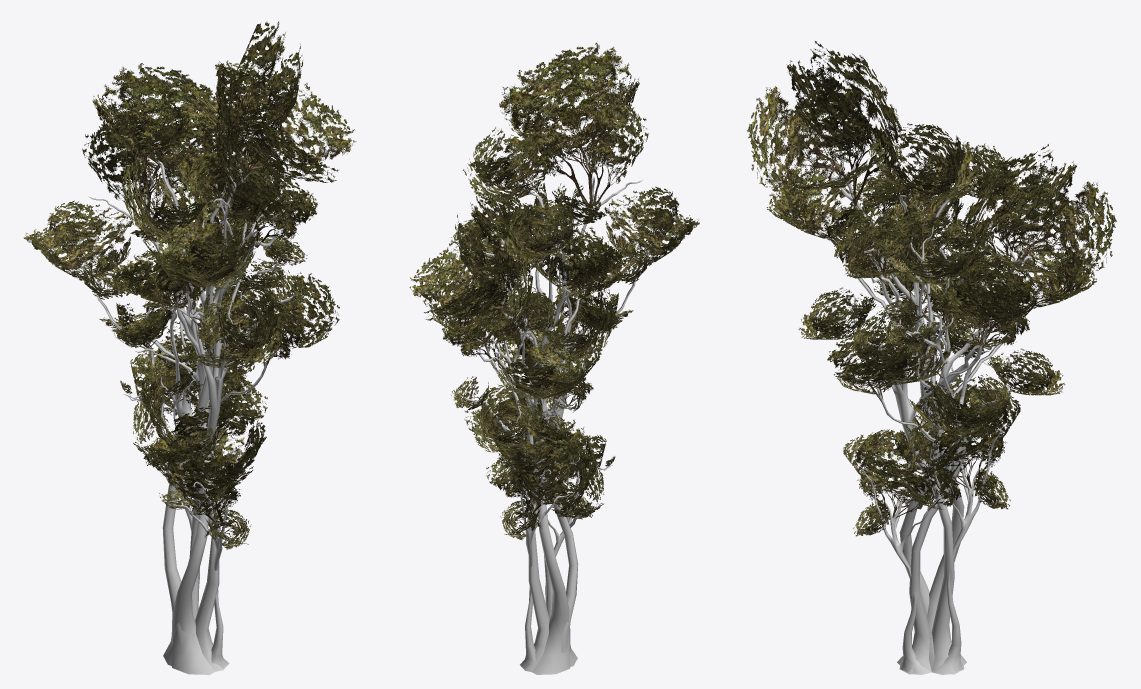
File: Model_Tree_03.fbx
3 renders of one model, left to right at view 1: azimuth 30°, elevation 25°; view 2: azimuth 150°, elevation 25°; view 3: azimuth 270°, elevation 25°, orthographic. The views are drawn at different scales.
Parts seen in each view (by area): view 1: Tree_03; view 2: Tree_03; view 3: Tree_03.
Part boxes in pixels (<box>): Tree_03: <box>23,21,356,674</box>; Tree_03: <box>409,42,699,674</box>; Tree_03: <box>747,41,1116,674</box>.
Size of the model in its own units: 313 by 967 by 526.
